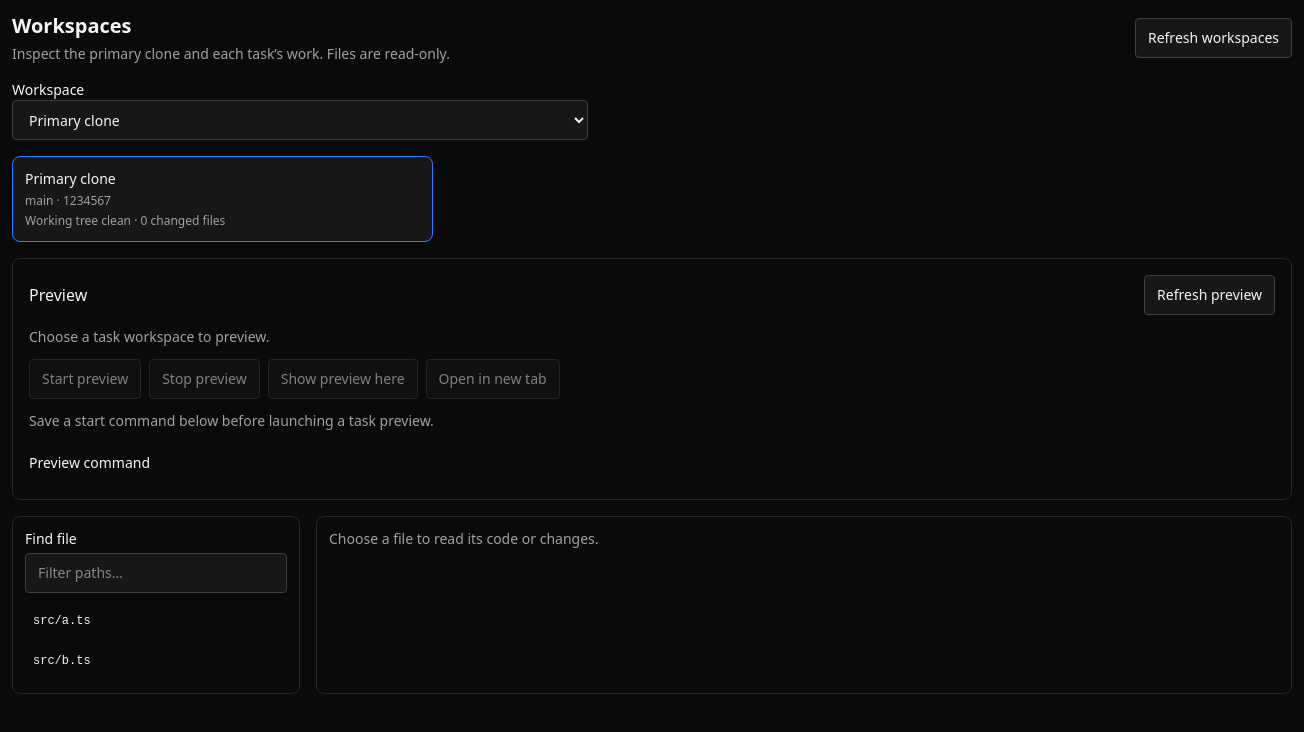
it: ignores a stale file response after choosing another file, and surfaces read refusals
Click the button "src/a.ts": (62, 621) [25,601,287,641]
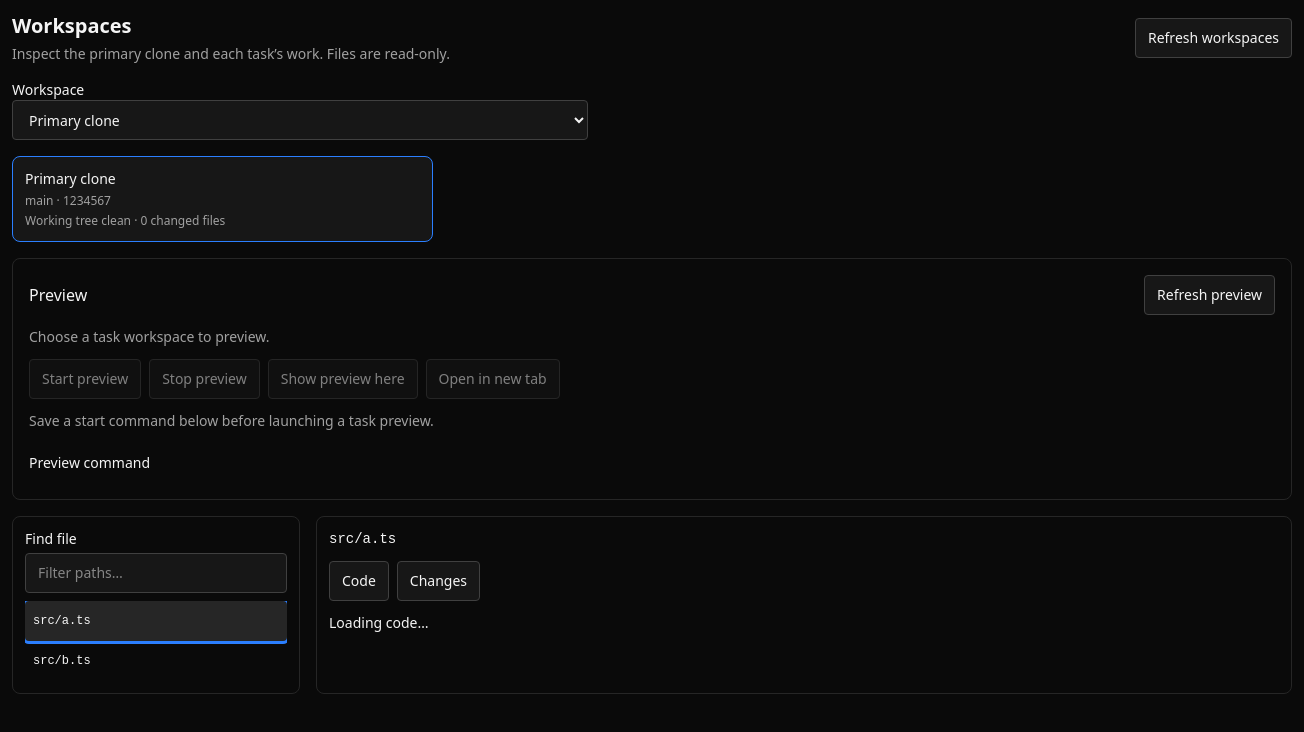
Click the button "src/b.ts": (62, 661) [25,641,287,681]
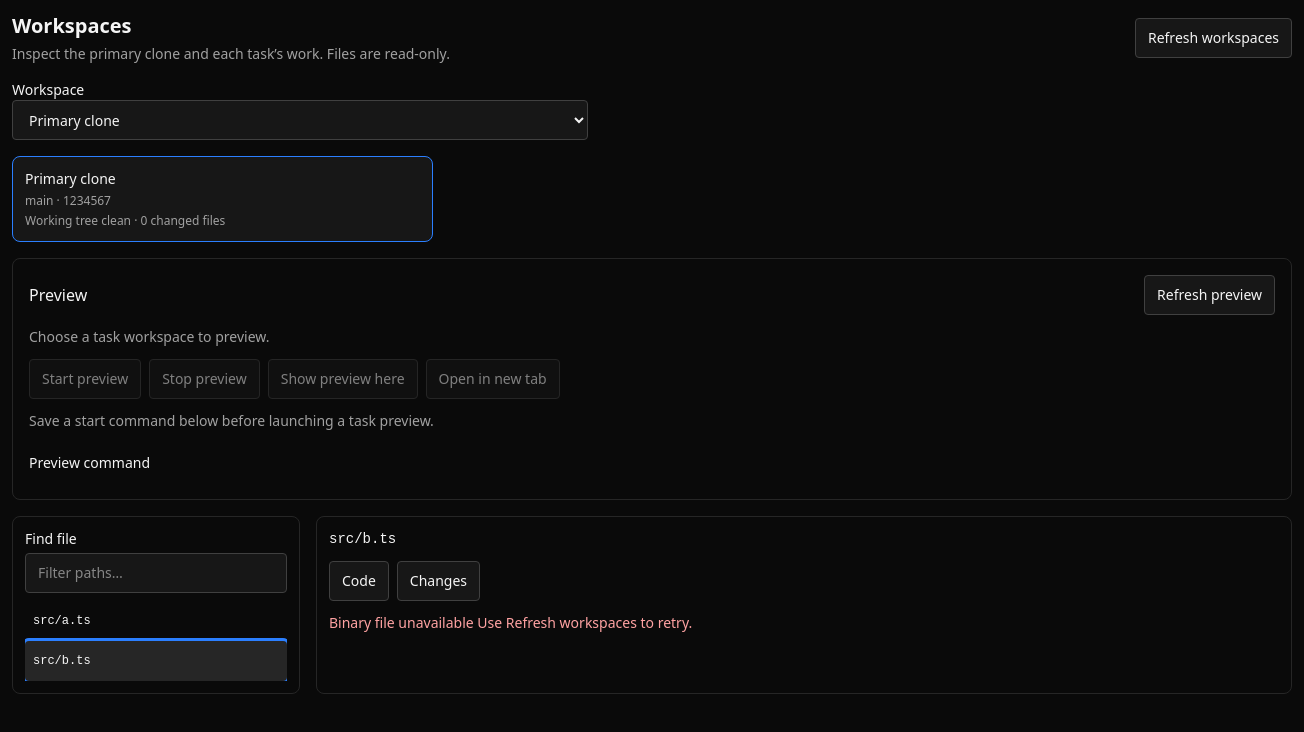
Now the message shows "Binary file unavailable", box [329,613,474,632]
